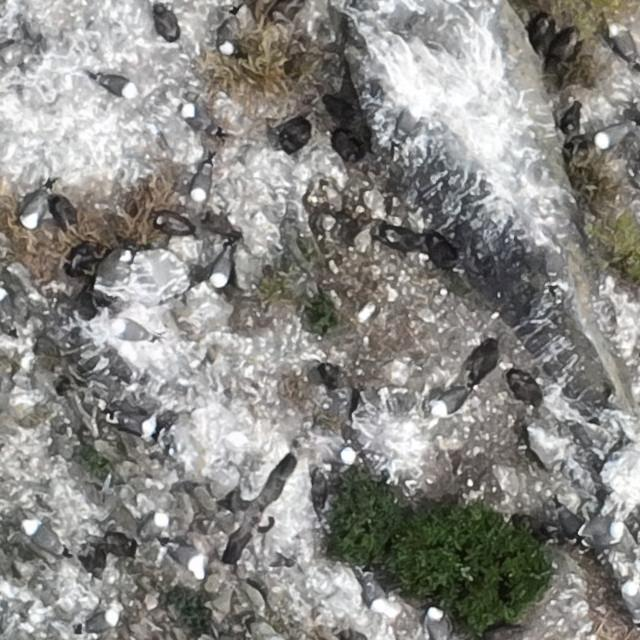umineko: (606, 20, 638, 69), (22, 518, 64, 553), (578, 517, 625, 548), (362, 569, 390, 615), (181, 103, 217, 136), (108, 317, 150, 343), (98, 74, 138, 98), (138, 511, 167, 543), (167, 547, 205, 570), (621, 579, 640, 625), (113, 414, 156, 433), (84, 610, 118, 633), (22, 196, 45, 227), (192, 164, 212, 199), (213, 253, 232, 288), (596, 125, 626, 147), (436, 392, 466, 414), (426, 609, 447, 639), (333, 446, 356, 464), (220, 42, 250, 54), (0, 288, 10, 322)
